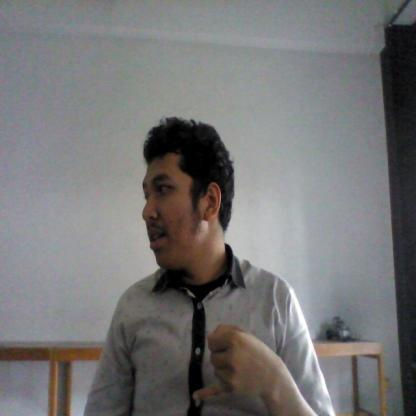J: (181, 318, 294, 414)
